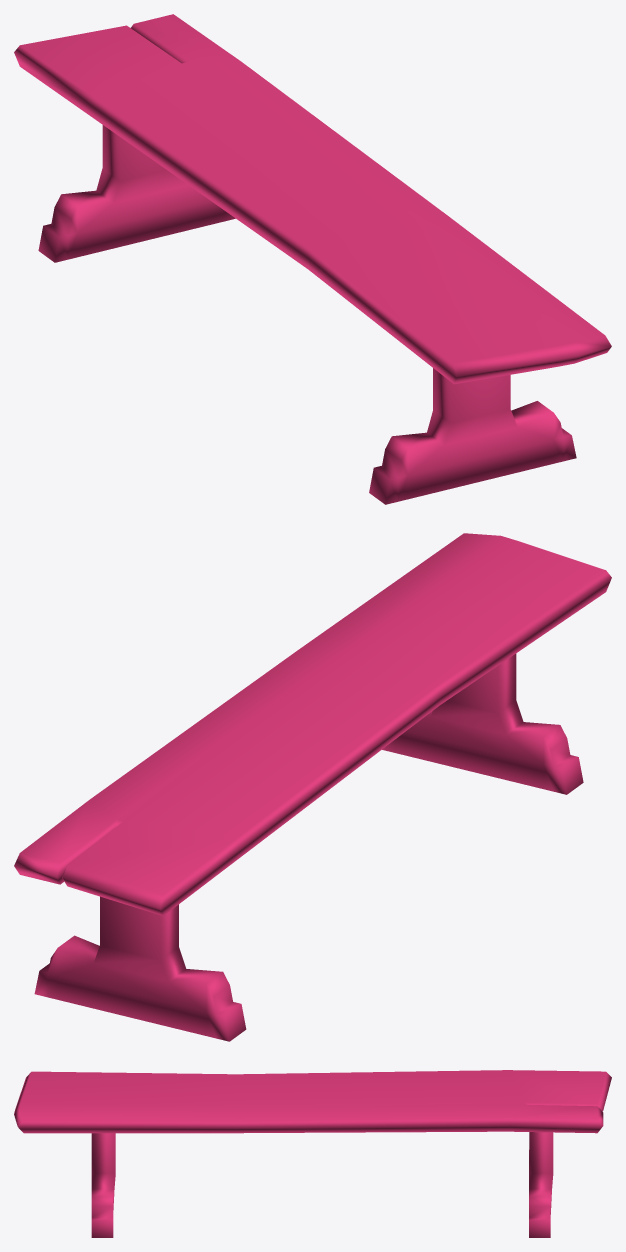
The model's file is Bench_01_Lod0.fbx.
3 renders of one model, top to bottom at view 1: azimuth 30°, elevation 25°; view 2: azimuth 150°, elevation 25°; view 3: azimuth 270°, elevation 25°, orthographic. The views are drawn at different scales.
Visible parts, largest first — view 1: Bench_01_Lod0; view 2: Bench_01_Lod0; view 3: Bench_01_Lod0.
Part boxes in pixels (bbox=[...]): Bench_01_Lod0: bbox=[14, 14, 611, 504]; Bench_01_Lod0: bbox=[14, 533, 611, 1041]; Bench_01_Lod0: bbox=[14, 1070, 611, 1237].
Bounding box in the file's own units: 47.83 × 41.01 × 196.
